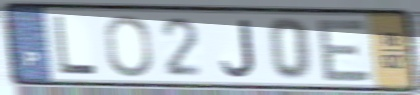0: (265, 15, 316, 83)
2: (160, 15, 206, 78)
E: (315, 17, 375, 83)
J: (219, 17, 258, 79)
L: (51, 14, 100, 76)
O: (102, 13, 156, 79)
